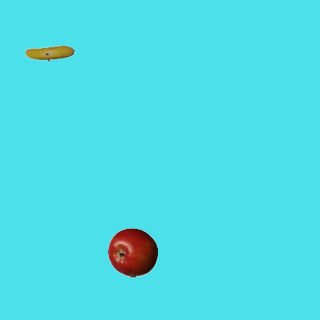Apple Braeburn: (107, 227, 157, 277)
Banana: (24, 28, 74, 78)
